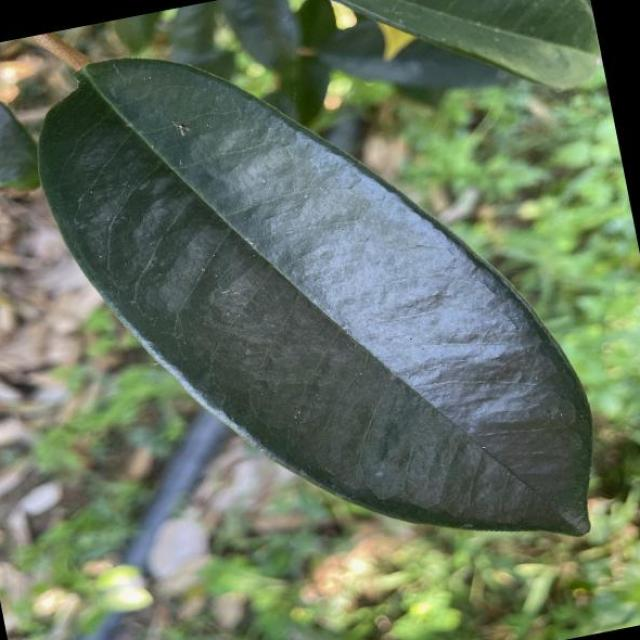No Disease: (8, 1, 628, 634)
